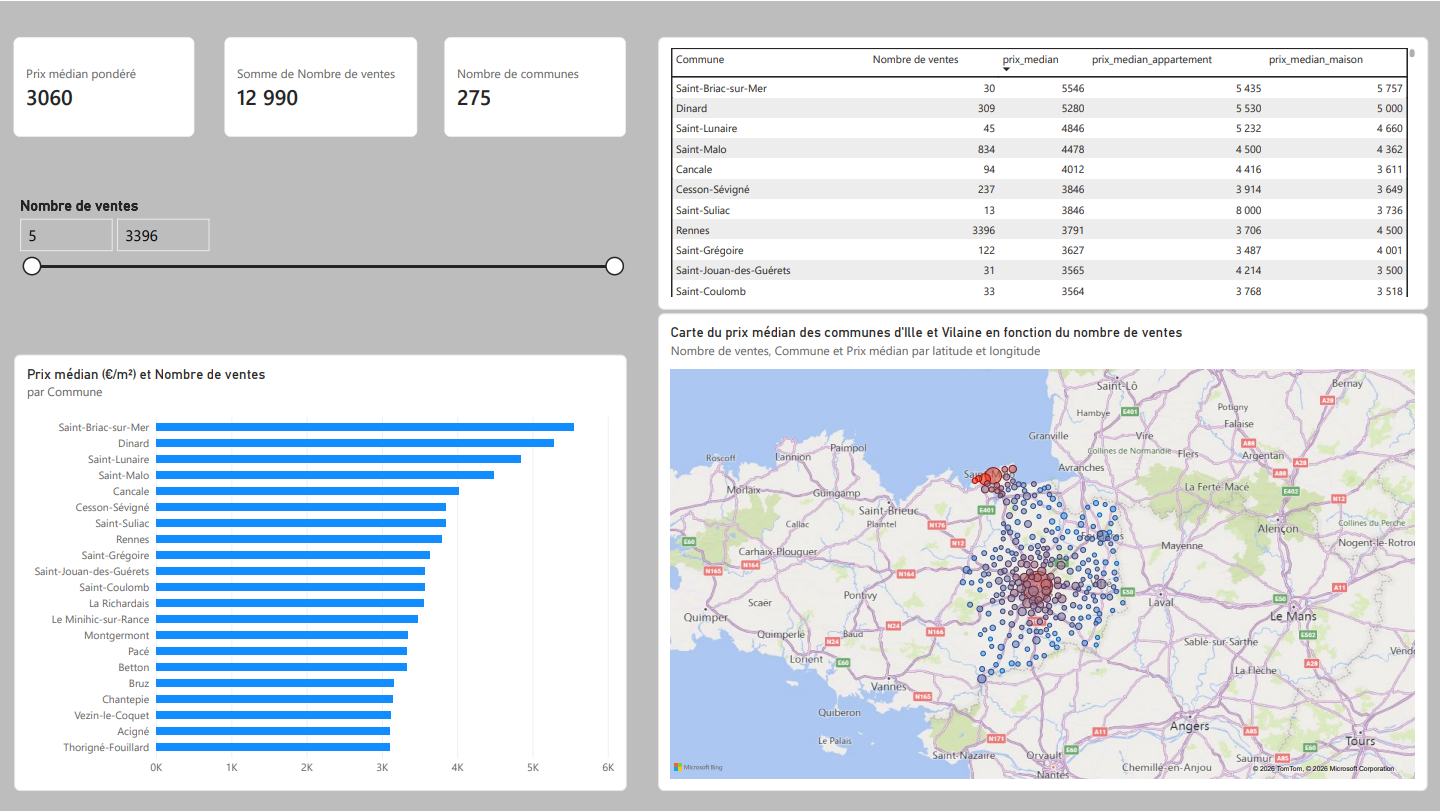

The page's visual inventory and layout, read from the dashboard file:
{"tool":"powerbi","page":{"name":"Prix de l'immobilier en Ille-et-Vilaine — 2025","canvas":[1920,1080],"ordinal":0},"visuals":[{"type":"clusteredBarChart","fields":{"Category":["prix_m2_communes_35_2025.nom_commune"],"Y":["Avg(prix_m2_communes_35_2025.prix_median)"]},"box":[19,471.2,815.6,580.7],"z":0},{"type":"cardVisual","fields":{"Data":["prix_m2_communes_35_2025.Prix médian pondéré"]},"box":[17.5,48.1,241.3,133.3],"z":1000},{"type":"cardVisual","fields":{"Data":["Sum(prix_m2_communes_35_2025.nb_ventes)"]},"box":[299.1,48.1,256.4,133.3],"z":2000},{"type":"cardVisual","fields":{"Data":["prix_m2_communes_35_2025.Nombre de communes"]},"box":[592.3,48.1,241.3,133.3],"z":3000},{"type":"tableEx","fields":{"Values":["prix_m2_communes_35_2025.Commune","prix_m2_communes_35_2025.Nombre de ventes","prix_m2_communes_35_2025.prix_median","prix_m2_communes_35_2025.prix_median_appartement","prix_m2_communes_35_2025.prix_median_maison"]},"box":[876.8,48.1,1026.4,362.8],"z":4000},{"type":"map","title":"Carte du prix médian des communes d''Ille et Vilaine en fonction du nombre de ventes","fields":{"Size":["Sum(prix_m2_communes_35_2025.Nombre de ventes)"],"X":["prix_m2_communes_35_2025.longitude"],"Y":["prix_m2_communes_35_2025.latitude"]},"box":[876.8,415.8,1025.7,636.1],"z":5000},{"type":"slicer","fields":{"Values":["prix_m2_communes_35_2025.Nombre de ventes"]},"box":[19,261.2,815.6,150.3],"z":6000}]}

Visuals, with their boxes in screenshot pixels (x1, y1, x2, y2), scaled from the page's 1920x1080 canvas onto the 1440x811 screenshot:
clusteredBarChart - prix_m2_communes_35_2025.nom_commune x Avg(prix_m2_communes_35_2025.prix_median): detection(14, 354, 626, 790)
cardVisual - prix_m2_communes_35_2025.Prix médian pondéré: detection(13, 36, 194, 136)
cardVisual - Sum(prix_m2_communes_35_2025.nb_ventes): detection(224, 36, 417, 136)
cardVisual - prix_m2_communes_35_2025.Nombre de communes: detection(444, 36, 625, 136)
tableEx - prix_m2_communes_35_2025.Commune x prix_m2_communes_35_2025.Nombre de ventes: detection(658, 36, 1427, 309)
"Carte du prix médian des communes d''Ille et Vilaine en fonction du nombre de ventes" map: detection(658, 312, 1427, 790)
slicer - prix_m2_communes_35_2025.Nombre de ventes: detection(14, 196, 626, 309)
